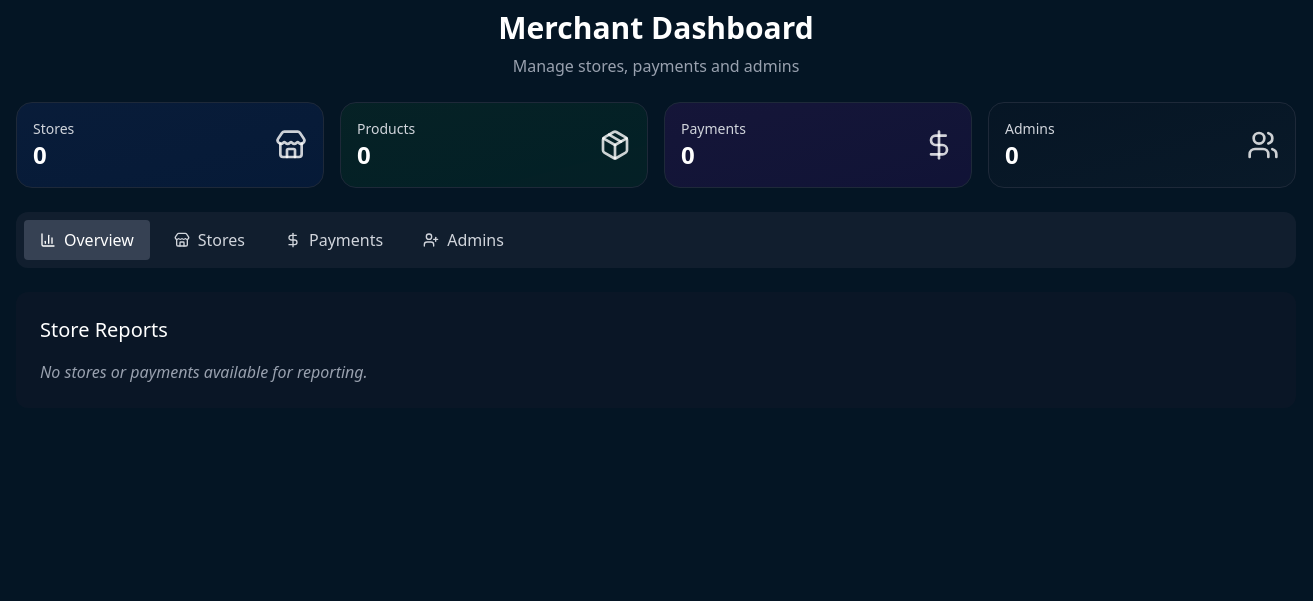
it: MerchantDashboard › navigates to Admins tab
This screenshot has width=1313, height=601.
What coordinates should you click on to do the following:
click the button "Admins"
I would click on:
 (464, 240)
Its box is [407, 220, 520, 260].
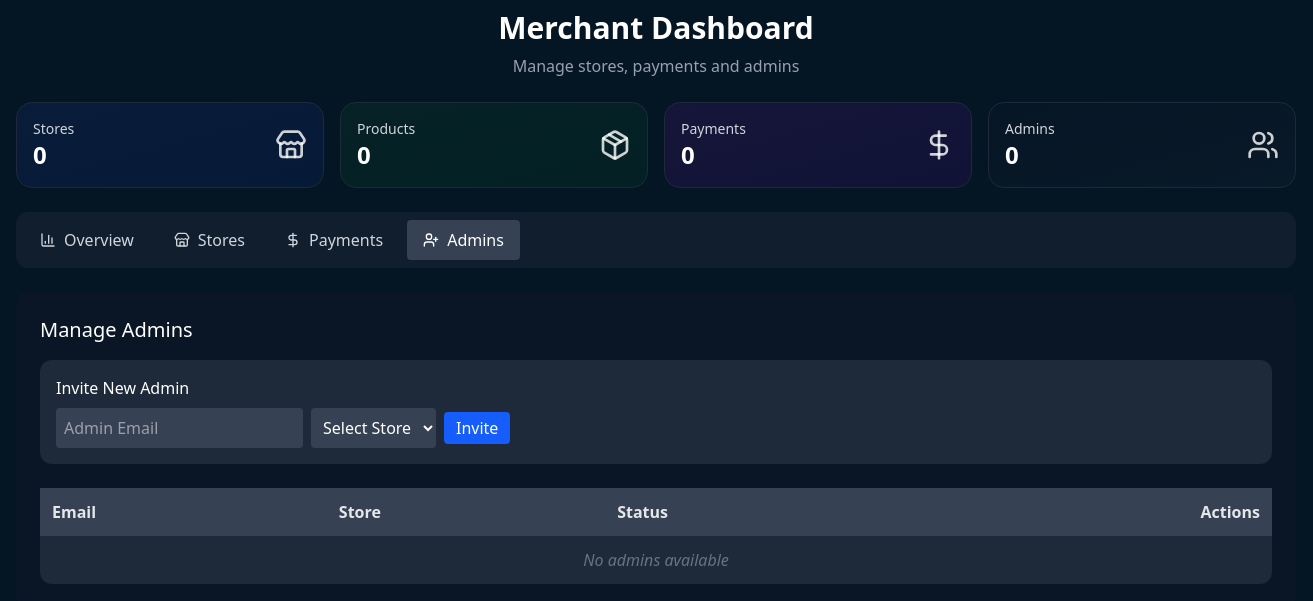
Now the heading "Invite New Admin" is shown, box [56, 377, 189, 399]
